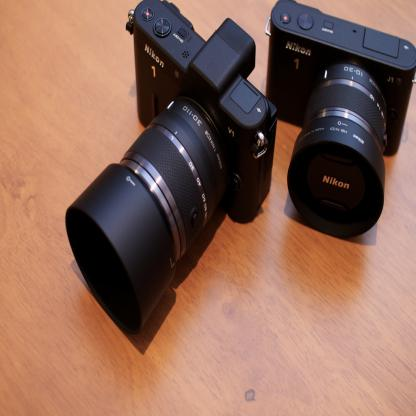Camera: (66, 1, 284, 358), (268, 1, 416, 239)
